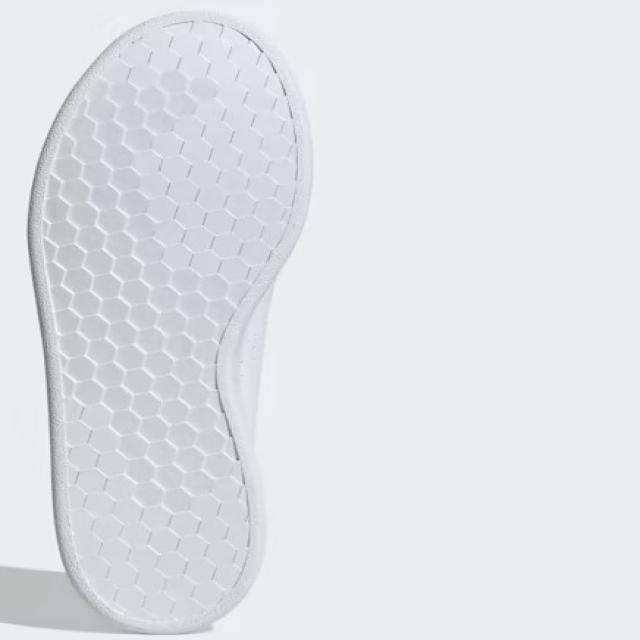shoe: (25, 5, 318, 638)
